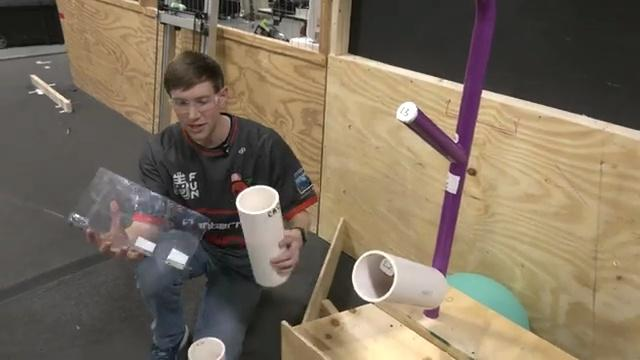CORAL: (351, 250, 445, 311), (236, 184, 292, 286)
